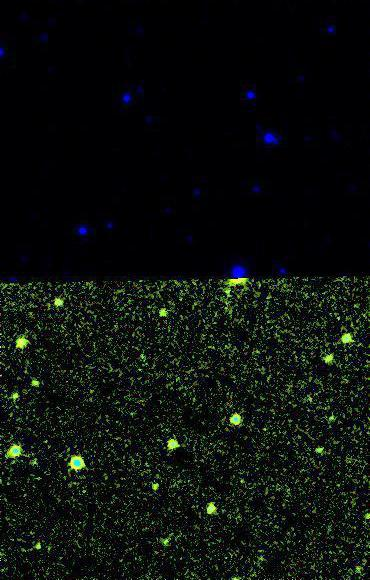star: (38, 534, 68, 564)
